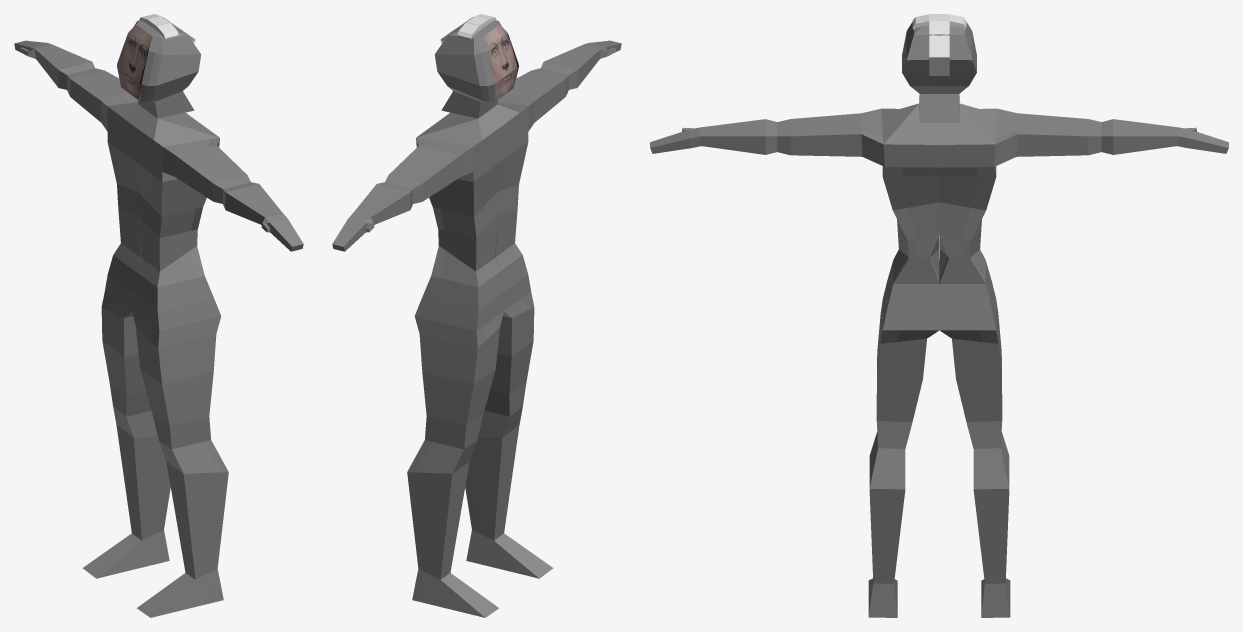
The model's file is MatronDemoModel.fbx.
The picture shows the model from 3 angles, left to right: view 1: azimuth 30°, elevation 25°; view 2: azimuth 150°, elevation 25°; view 3: azimuth 270°, elevation 25°; orthographic projection. The views are drawn at different scales.
Parts seen in each view (by area): view 1: Cube, Face, MatronHat; view 2: Cube, Face, MatronHat; view 3: Cube, MatronHat.
Part boxes in pixels (<box>): Cube: <box>14,17,303,617</box>; Face: <box>117,25,152,100</box>; MatronHat: <box>139,14,195,43</box>; Cube: <box>332,17,621,617</box>; Face: <box>483,25,518,100</box>; MatronHat: <box>440,14,496,43</box>; Cube: <box>650,22,1228,617</box>; MatronHat: <box>912,14,966,75</box>.
Bounding box in the file's own units: 187 × 1273 × 1142.
